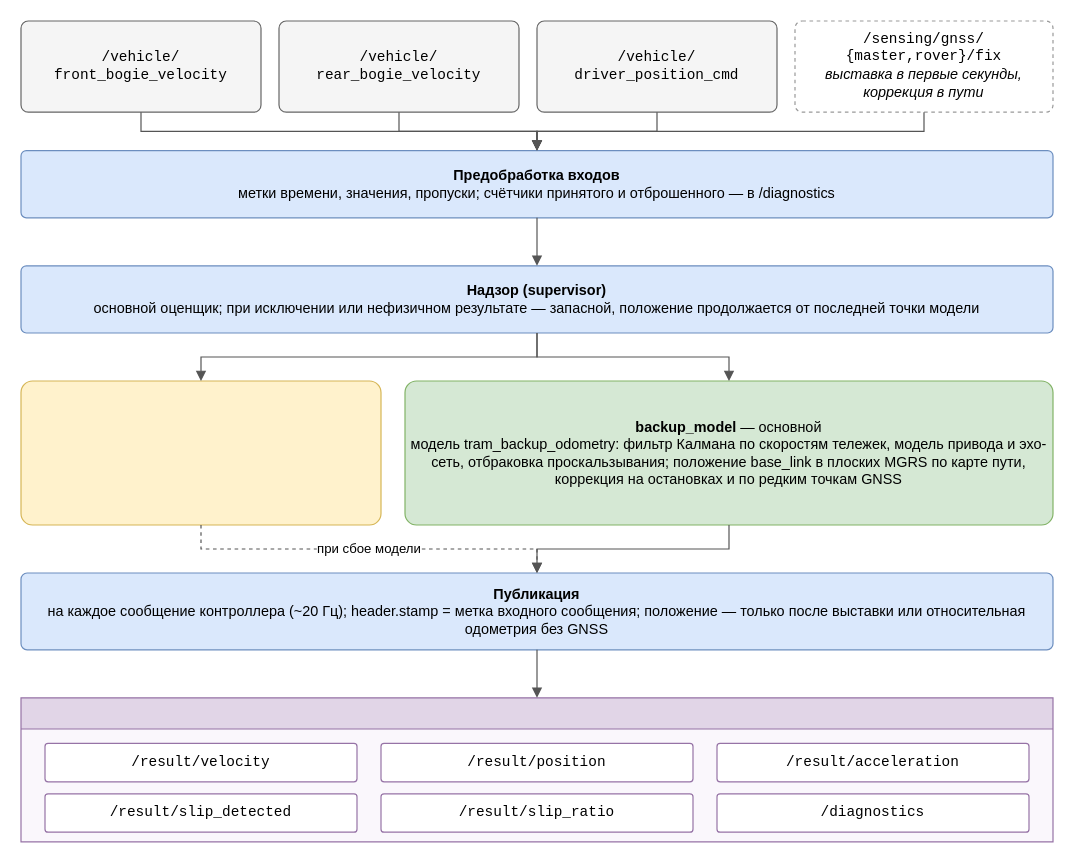
Image size: 1074x863. Some labels were removed from this diagram. Here are the shapes that lost their labels. From the top down, the box of each, then its label:
(20, 380, 381, 525): wheel_baseline — запасной работает параллельно: скорость по тележкам
(20, 697, 1053, 842): Выходные топики
